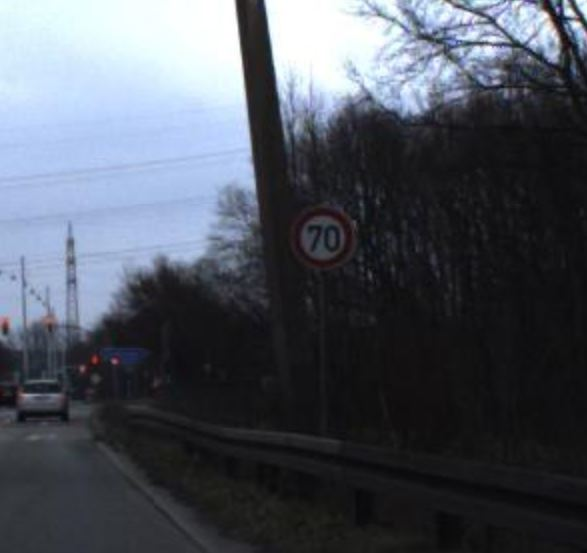70 Km Hiz Siniri: (292, 210, 353, 269)
